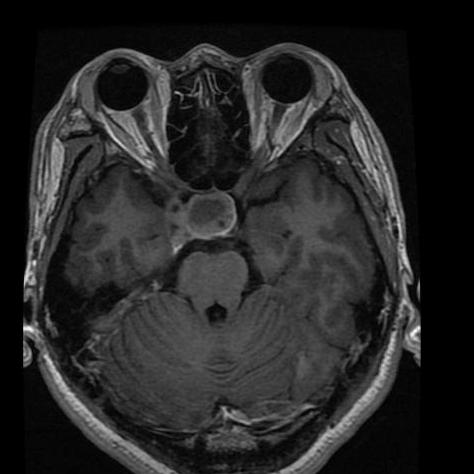Tumour-Pituitary: (173, 184, 250, 250)
